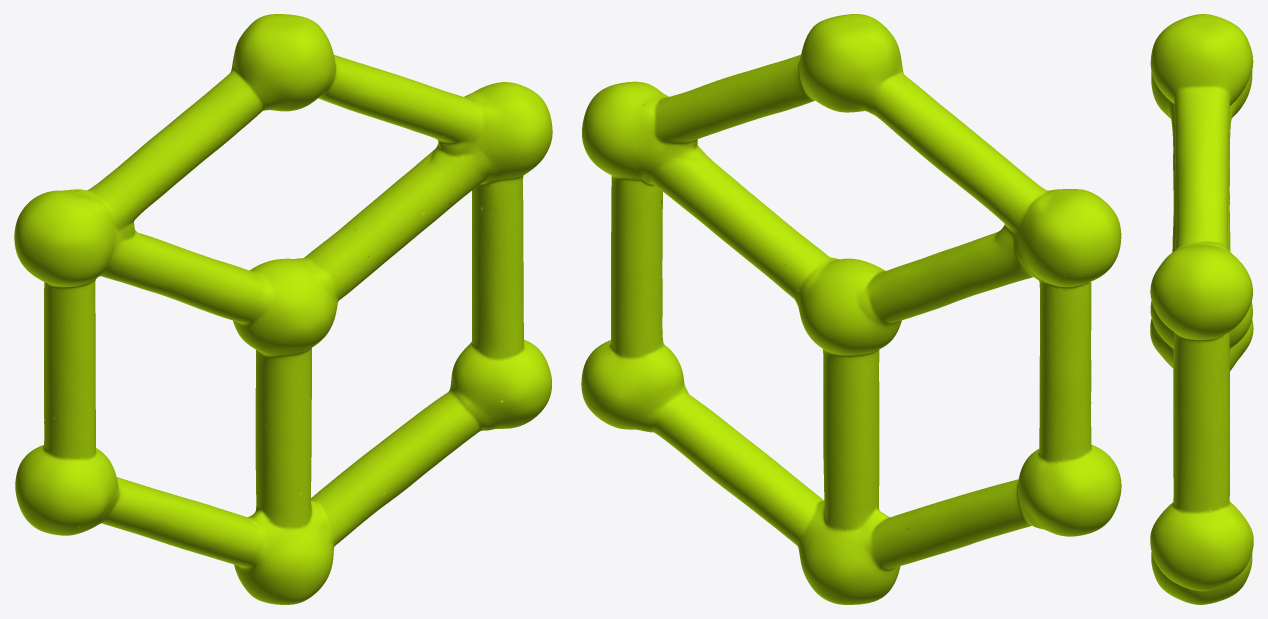
File: mdoel glb image as model green 2.glb
3 views of the same model, side by side, from view 1: azimuth 30°, elevation 25°; view 2: azimuth 150°, elevation 25°; view 3: azimuth 270°, elevation 25° (orthographic).
Parts seen in each view (by area): view 1: Mesh_0; view 2: Mesh_0; view 3: Mesh_0.
Part boxes in pixels (bbox=[...]): Mesh_0: bbox=[14, 14, 552, 604]; Mesh_0: bbox=[581, 14, 1121, 604]; Mesh_0: bbox=[1150, 14, 1253, 604].
Bounding box in the file's own units: 1.92 × 2.01 × 0.3282.
